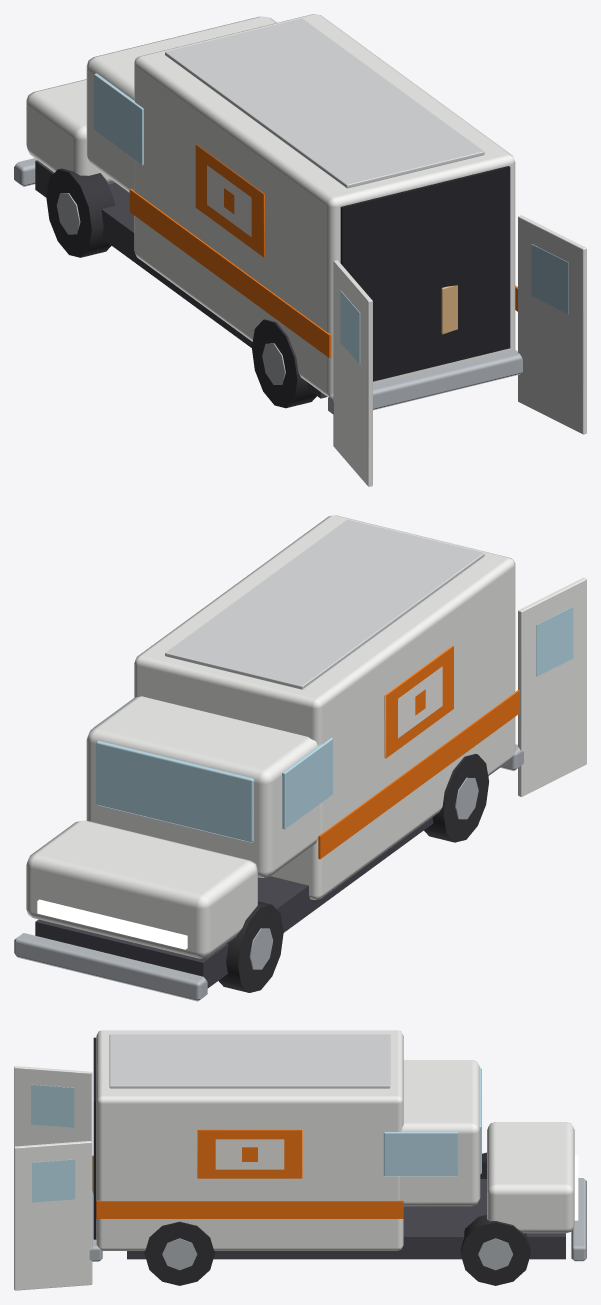
The model's file is welt_lieferwagen.glb.
The picture shows the model from 3 angles, top to bottom: view 1: azimuth 30°, elevation 25°; view 2: azimuth 150°, elevation 25°; view 3: azimuth 270°, elevation 25°; orthographic projection. The views are drawn at different scales.
Parts seen in each view (by area): view 1: welt_lieferwagen; view 2: welt_lieferwagen; view 3: welt_lieferwagen.
Part boxes in pixels (x1,y1,x2,y2): welt_lieferwagen: (14,14,586,486); welt_lieferwagen: (14,515,586,1001); welt_lieferwagen: (14,1030,586,1290).
Bounding box in the file's own units: 2.22 × 2.39 × 6.53.
